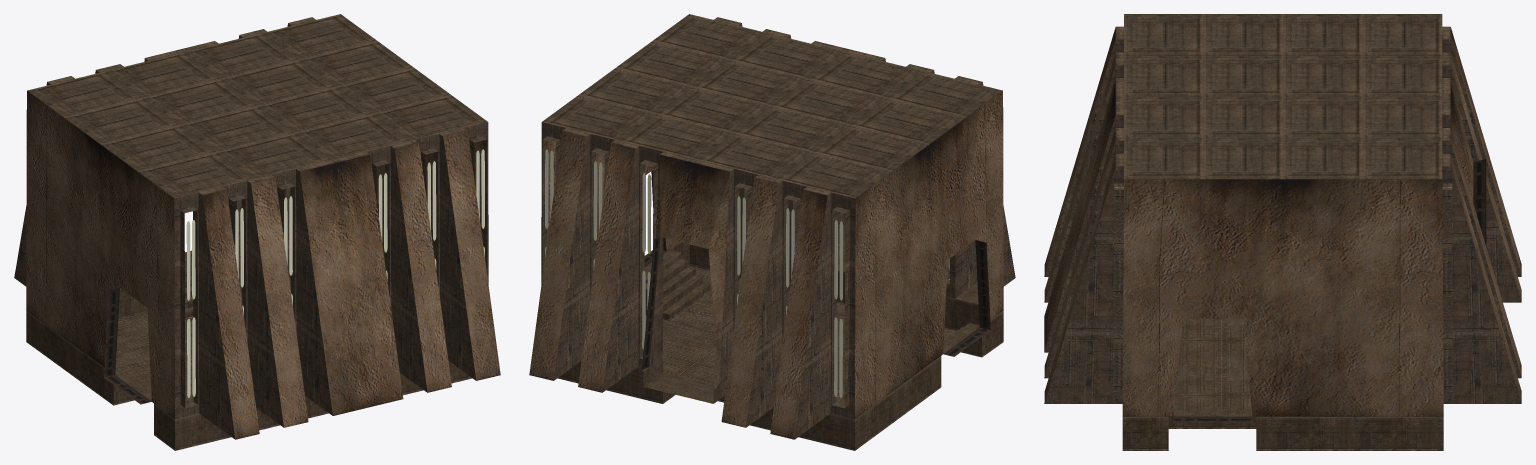
File: thm_tato_fort_tusken_r21_mesh_r21.fbx
3 renders of one model, left to right at view 1: azimuth 30°, elevation 25°; view 2: azimuth 150°, elevation 25°; view 3: azimuth 270°, elevation 25°, orthographic. The views are drawn at different scales.
Visible parts, largest first — view 1: mesh_node; view 2: mesh_node; view 3: mesh_node.
Boxes of the visible parts, box(x1,y1,x2,y2) form: mesh_node: box(14, 14, 500, 450); mesh_node: box(529, 14, 1015, 450); mesh_node: box(1044, 14, 1521, 450).
Size of the model in its own units: 10.98 by 7.88 by 12.54.
